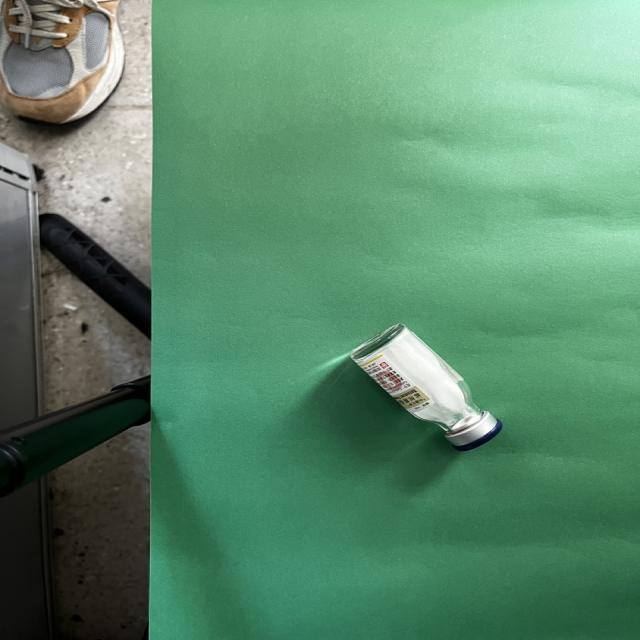Vials: (350, 324, 501, 451)
